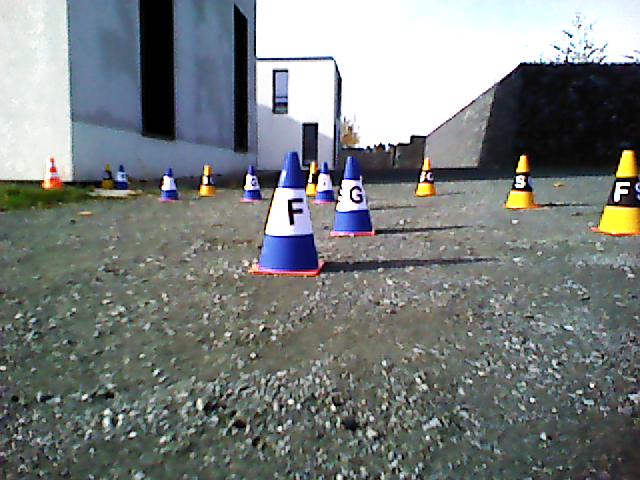bluecone: (261, 153, 312, 267), (334, 155, 370, 231), (316, 163, 335, 200), (244, 165, 262, 198), (161, 168, 179, 198)
orangeconesmall: (43, 157, 62, 188)
yellowcone: (600, 150, 640, 231), (504, 154, 536, 207), (416, 158, 436, 194), (199, 164, 216, 195), (305, 161, 319, 194)
